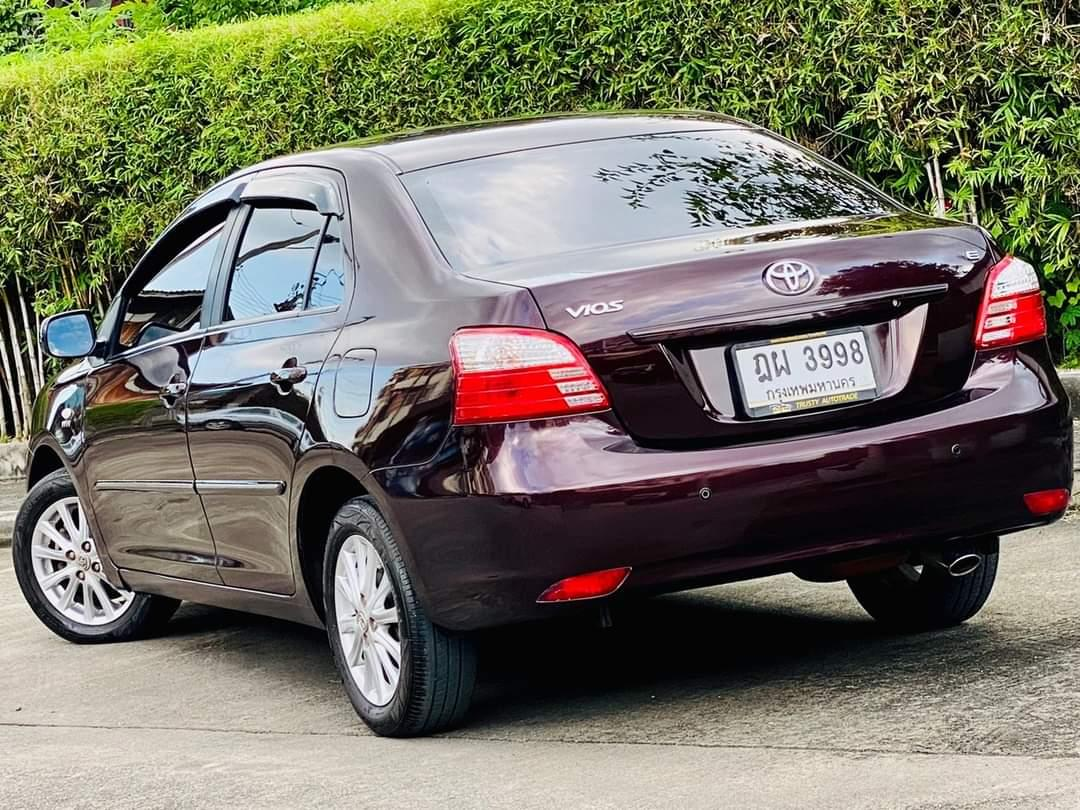license-plate: (720, 319, 889, 422)
